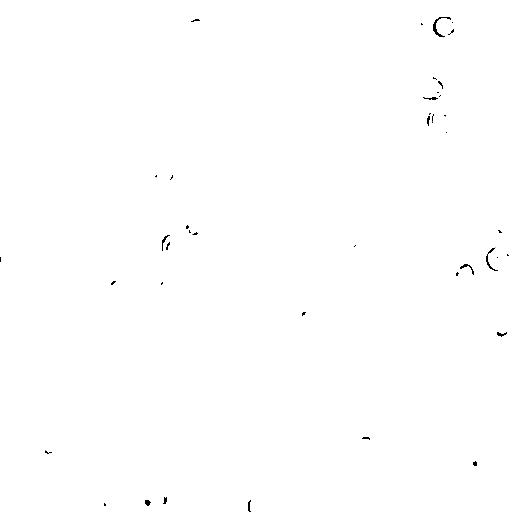micro-algae: (125, 25, 257, 157), (335, 292, 435, 395), (377, 50, 432, 106), (120, 421, 171, 473), (171, 415, 217, 461), (81, 255, 127, 299), (89, 1, 135, 42), (423, 101, 460, 139), (454, 447, 493, 481), (387, 284, 420, 313), (159, 232, 189, 263), (276, 432, 309, 460), (13, 26, 43, 56), (131, 483, 162, 511), (482, 245, 509, 274), (142, 240, 172, 266), (151, 158, 177, 187), (292, 303, 319, 330), (417, 76, 445, 101), (453, 261, 477, 290), (429, 260, 454, 287), (431, 15, 459, 39), (104, 63, 126, 91), (481, 221, 507, 244), (338, 265, 362, 289), (409, 11, 432, 35), (155, 276, 179, 299), (81, 467, 104, 491), (196, 48, 221, 70), (36, 433, 61, 455), (265, 454, 289, 474), (185, 16, 206, 38), (180, 218, 204, 237), (72, 363, 97, 381), (24, 157, 43, 180), (144, 404, 165, 424), (57, 131, 76, 151), (342, 395, 362, 412), (491, 319, 510, 336), (108, 277, 127, 293), (103, 0, 135, 9), (245, 496, 263, 512), (88, 497, 108, 511), (1, 248, 13, 271), (367, 252, 383, 269), (79, 237, 95, 253), (352, 241, 368, 257), (153, 489, 170, 504), (358, 435, 372, 450)
